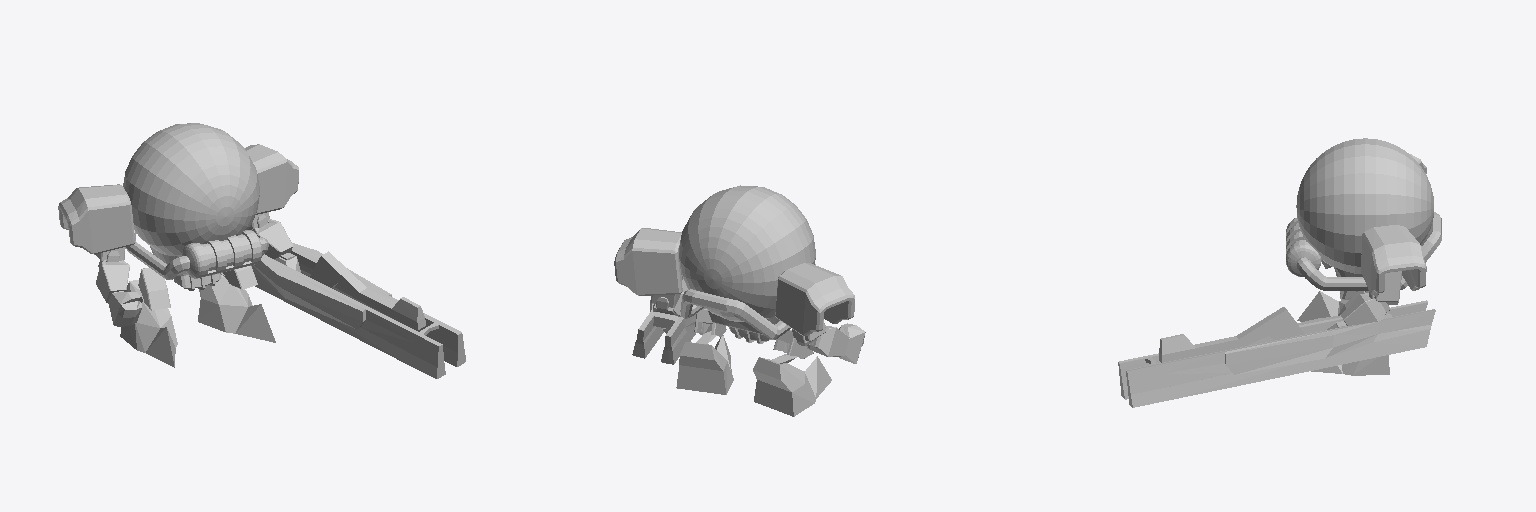
Rendered from new for enggar.obj.
The picture shows the model from 3 angles: view 1: azimuth 30°, elevation 25°; view 2: azimuth 150°, elevation 25°; view 3: azimuth 270°, elevation 25°; orthographic projection.
Parts seen in each view (by area): view 1: Head, gun, R_pad, Mask, L_foot, L_pad, R_foot, R_hand, R_fist, R_leg, L_fist, L_leg; view 2: Head, R_pad, L_pad, R_foot, L_foot, gun, Mask, R_fist, R_hand, R_leg; view 3: gun, Head, L_pad, Mask, L_fist, L_foot, R_foot, L_arm.
Boxes of the visible parts, x1=… form: Head: x1=123, y1=123, x2=259, y2=275; gun: x1=251, y1=243, x2=465, y2=378; R_pad: x1=58, y1=184, x2=135, y2=254; Mask: x1=126, y1=230, x2=268, y2=279; L_foot: x1=198, y1=275, x2=275, y2=342; L_pad: x1=245, y1=144, x2=298, y2=214; R_foot: x1=120, y1=280, x2=177, y2=367; R_hand: x1=108, y1=291, x2=142, y2=326; R_fist: x1=96, y1=260, x2=129, y2=302; R_leg: x1=138, y1=268, x2=170, y2=310; L_fist: x1=248, y1=219, x2=292, y2=258; L_leg: x1=223, y1=266, x2=257, y2=289; Head: x1=679, y1=185, x2=815, y2=334; R_pad: x1=775, y1=263, x2=854, y2=335; L_pad: x1=614, y1=228, x2=682, y2=295; R_foot: x1=753, y1=356, x2=831, y2=416; L_foot: x1=676, y1=335, x2=733, y2=394; gun: x1=632, y1=279, x2=705, y2=364; Mask: x1=680, y1=264, x2=815, y2=339; R_fist: x1=806, y1=325, x2=849, y2=356; R_hand: x1=839, y1=323, x2=865, y2=363; R_leg: x1=773, y1=330, x2=813, y2=358; gun: x1=1118, y1=300, x2=1435, y2=407; Head: x1=1296, y1=138, x2=1433, y2=276; L_pad: x1=1361, y1=225, x2=1426, y2=295; Mask: x1=1286, y1=212, x2=1441, y2=290; L_fist: x1=1341, y1=293, x2=1390, y2=325; L_foot: x1=1311, y1=307, x2=1389, y2=375; R_foot: x1=1297, y1=291, x2=1388, y2=321; L_arm: x1=1369, y1=271, x2=1401, y2=304.
Size of the model in its own units: 22.46 by 15.82 by 22.97.